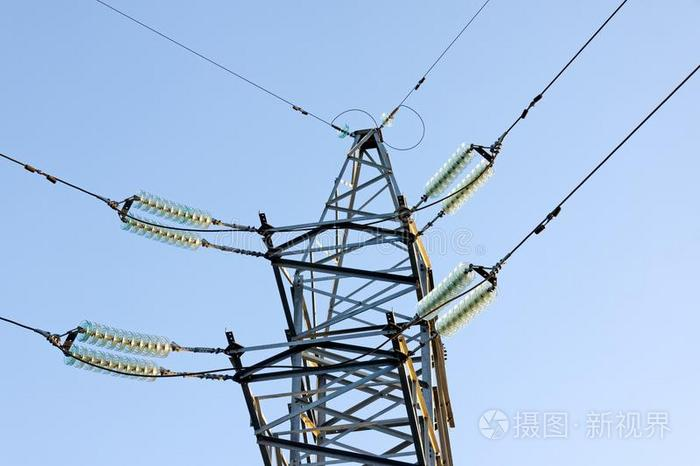insulator: (67, 322, 169, 384), (416, 265, 498, 331), (120, 195, 211, 251), (427, 144, 493, 213)
